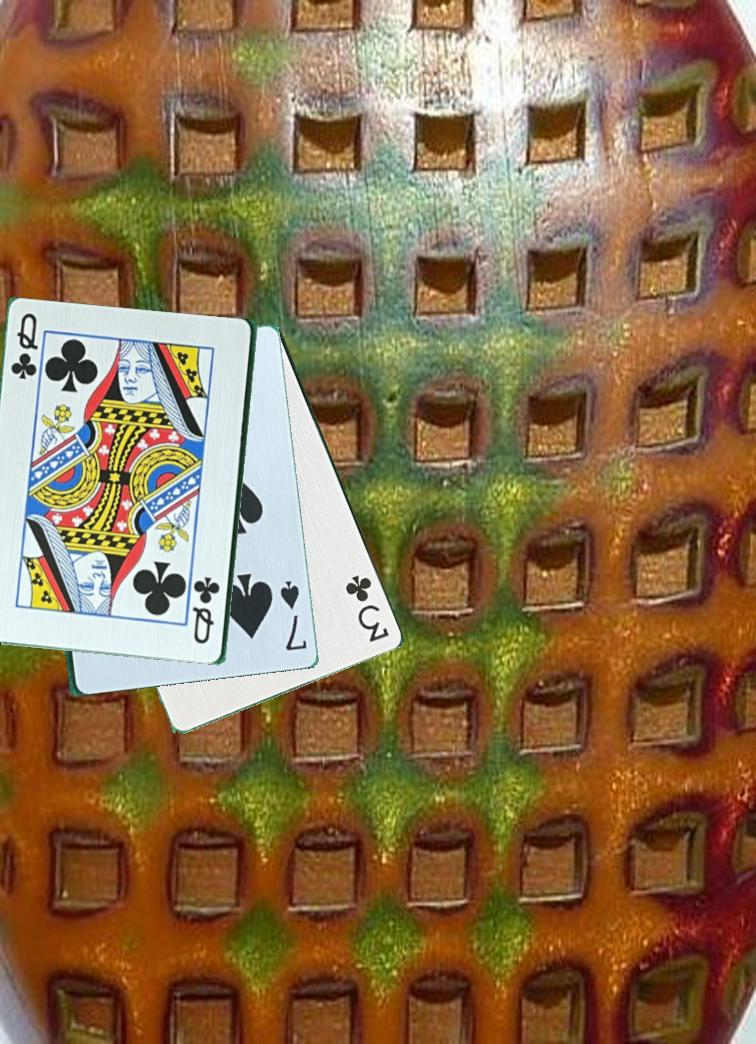3c: (339, 570, 393, 646)
7s: (277, 578, 311, 655)
qc: (7, 309, 41, 383), (190, 573, 223, 648)
